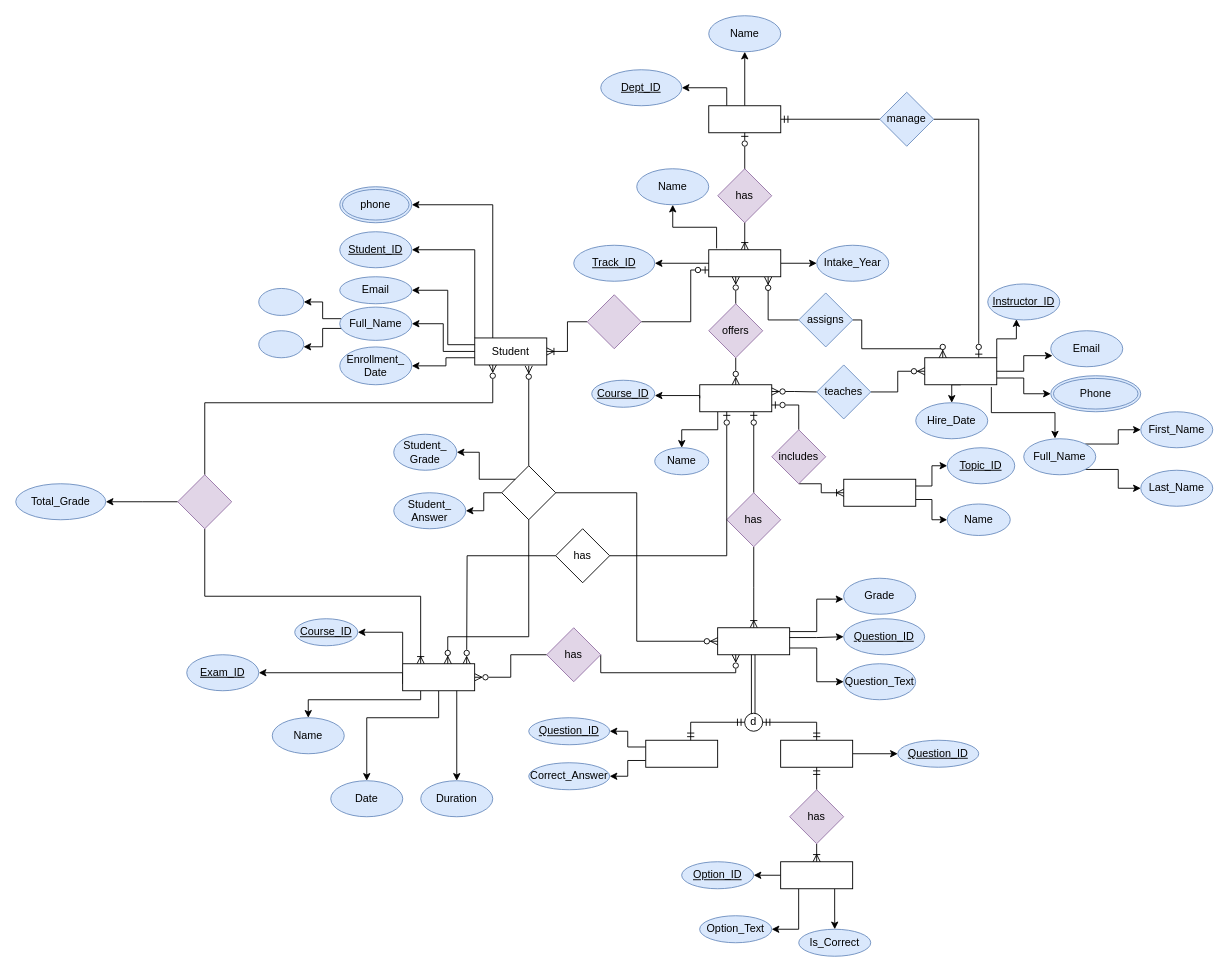
This 1229x972 diagram has some shape labels left out. The centre of each missing label's shape, as x and y in pixels:
Course: the point at 735,398
Department: the point at 744,119
enrolls: the point at 613,321
Exam: the point at 438,677
examine: the point at 204,501
First: the point at 281,301
Instructor: the point at 960,371
Last: the point at 281,344
MCQ_ Question: the point at 816,753
MCQ_Option: the point at 816,875
Question: the point at 753,641
takes: the point at 528,492
Topic: the point at 879,492
Track: the point at 744,263
TrueFalse_ Question: the point at 681,753
